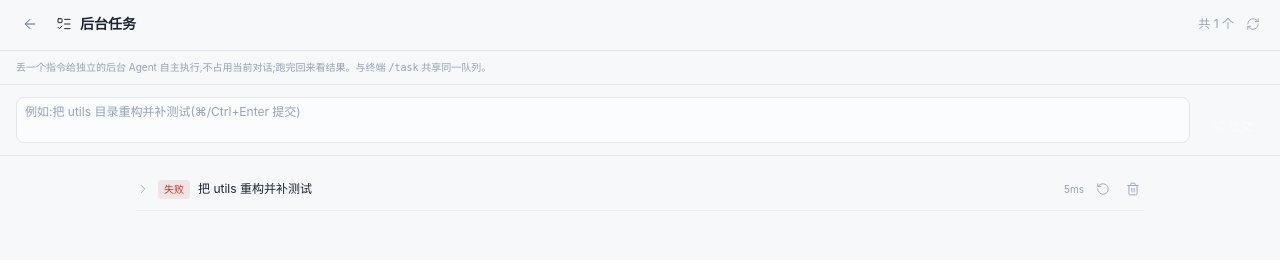
Test: TaskPanel 重试按钮 › 后端拒绝时把原因显示出来,而不是静默什么都没发生
Click the button with test id "task-retry".
click(1103, 189)  # box [1092,178,1114,200]
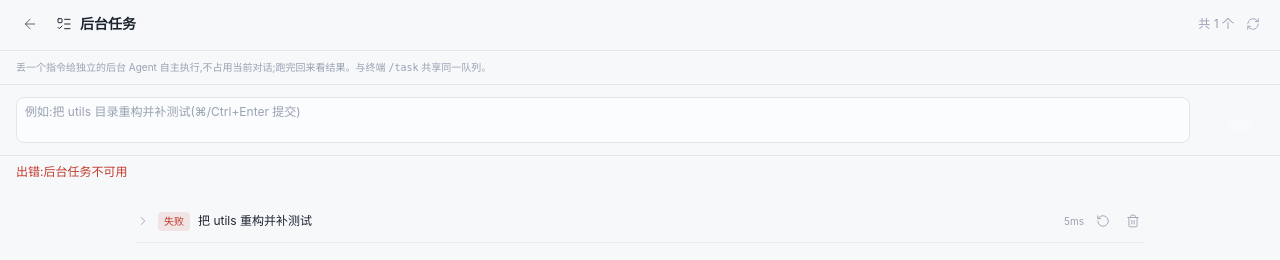
Now the text "出错:后台任务不可用" is shown, box [16,164,128,179]
